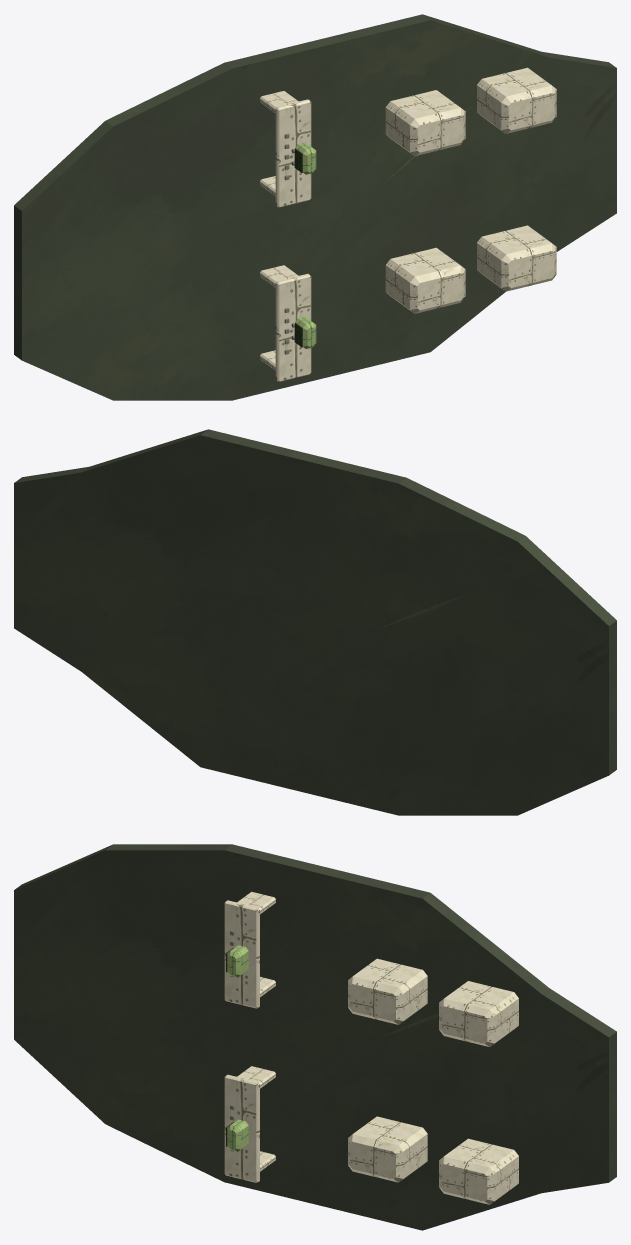
File: ECHO7_25_Control_Auxiliar.obj
The picture shows the model from 3 angles, top to bottom: view 1: azimuth 30°, elevation 25°; view 2: azimuth 150°, elevation 25°; view 3: azimuth 330°, elevation 25°; orthographic projection.
Parts seen in each view (by area): view 1: ECHO7_25_Control_Auxiliar__Suelo_cabina_01, ECHO7_25_Control_Auxiliar__Reserva_auxiliar_01, ECHO7_25_Control_Auxiliar__Reserva_auxiliar_02, ECHO7_25_Control_Auxiliar__Reserva_auxiliar_03, ECHO7_25_Control_Auxiliar__Reserva_auxiliar_04, ECHO7_25_Control_Auxiliar__Mesa_tablero_02, ECHO7_25_Control_Auxiliar__Mesa_tablero_01; view 2: ECHO7_25_Control_Auxiliar__Suelo_cabina_01; view 3: ECHO7_25_Control_Auxiliar__Suelo_cabina_01, ECHO7_25_Control_Auxiliar__Reserva_auxiliar_01, ECHO7_25_Control_Auxiliar__Reserva_auxiliar_02, ECHO7_25_Control_Auxiliar__Reserva_auxiliar_04, ECHO7_25_Control_Auxiliar__Reserva_auxiliar_03, ECHO7_25_Control_Auxiliar__Mesa_tablero_02, ECHO7_25_Control_Auxiliar__Mesa_tablero_01, ECHO7_25_Control_Auxiliar__CRT_carcasa_02, ECHO7_25_Control_Auxiliar__CRT_carcasa_01.
Boxes of the visible parts, x1,y1,x2,y2 form: ECHO7_25_Control_Auxiliar__Suelo_cabina_01: (14, 14, 616, 400); ECHO7_25_Control_Auxiliar__Reserva_auxiliar_01: (385, 247, 465, 313); ECHO7_25_Control_Auxiliar__Reserva_auxiliar_02: (385, 90, 465, 155); ECHO7_25_Control_Auxiliar__Reserva_auxiliar_03: (477, 225, 556, 291); ECHO7_25_Control_Auxiliar__Reserva_auxiliar_04: (477, 67, 556, 133); ECHO7_25_Control_Auxiliar__Mesa_tablero_02: (275, 99, 311, 207); ECHO7_25_Control_Auxiliar__Mesa_tablero_01: (275, 273, 311, 381); ECHO7_25_Control_Auxiliar__Suelo_cabina_01: (14, 429, 616, 815); ECHO7_25_Control_Auxiliar__Suelo_cabina_01: (14, 844, 616, 1230); ECHO7_25_Control_Auxiliar__Reserva_auxiliar_01: (348, 1116, 427, 1182); ECHO7_25_Control_Auxiliar__Reserva_auxiliar_02: (348, 958, 427, 1024); ECHO7_25_Control_Auxiliar__Reserva_auxiliar_04: (439, 981, 518, 1046); ECHO7_25_Control_Auxiliar__Reserva_auxiliar_03: (439, 1138, 518, 1204); ECHO7_25_Control_Auxiliar__Mesa_tablero_02: (224, 900, 259, 1008); ECHO7_25_Control_Auxiliar__Mesa_tablero_01: (224, 1074, 259, 1182); ECHO7_25_Control_Auxiliar__CRT_carcasa_02: (227, 945, 248, 977); ECHO7_25_Control_Auxiliar__CRT_carcasa_01: (227, 1119, 248, 1151).
Size of the model in its own units: 15 by 8 by 1.9.
5 materials, 5 textured.
